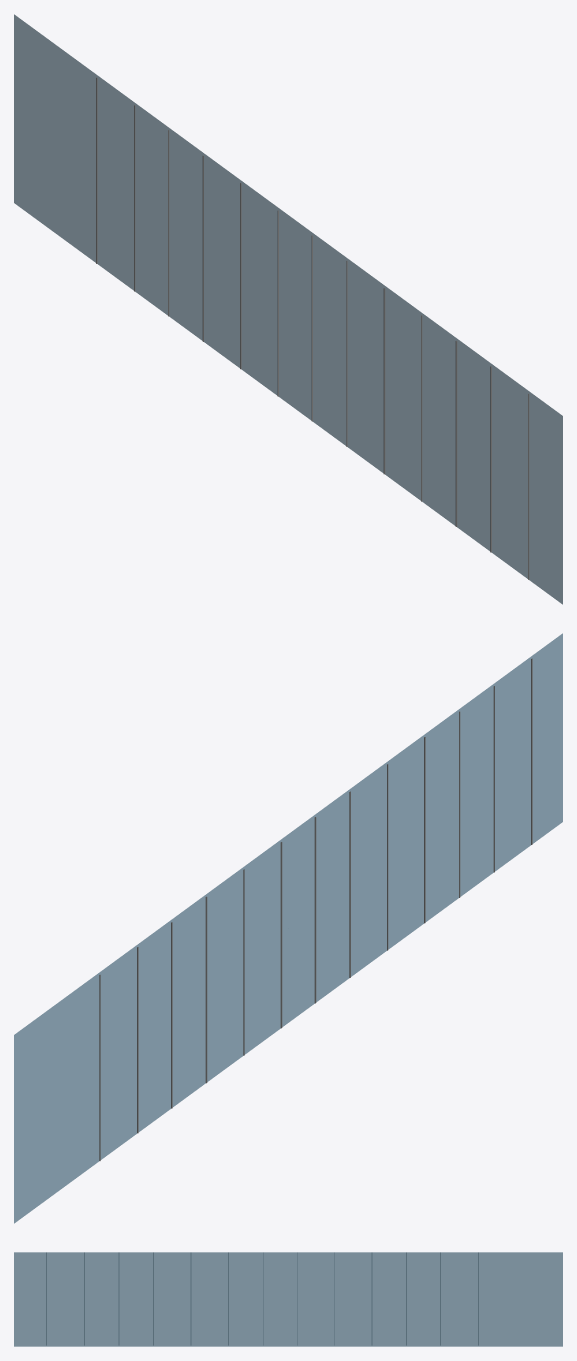
File: GlassWall.FBX
The picture shows the model from 3 angles, top to bottom: view 1: azimuth 30°, elevation 25°; view 2: azimuth 150°, elevation 25°; view 3: azimuth 270°, elevation 25°; orthographic projection. The views are drawn at different scales.
Visible parts, largest first — view 1: Plane001; view 2: Plane001; view 3: Plane001.
Part boxes in pixels (left/top/right/bottom): Plane001: left=14, top=14, right=562, bottom=604; Plane001: left=14, top=633, right=562, bottom=1223; Plane001: left=14, top=1252, right=562, bottom=1346.
Bounding box in the file's own units: 6.02 × 532 × 2801.
